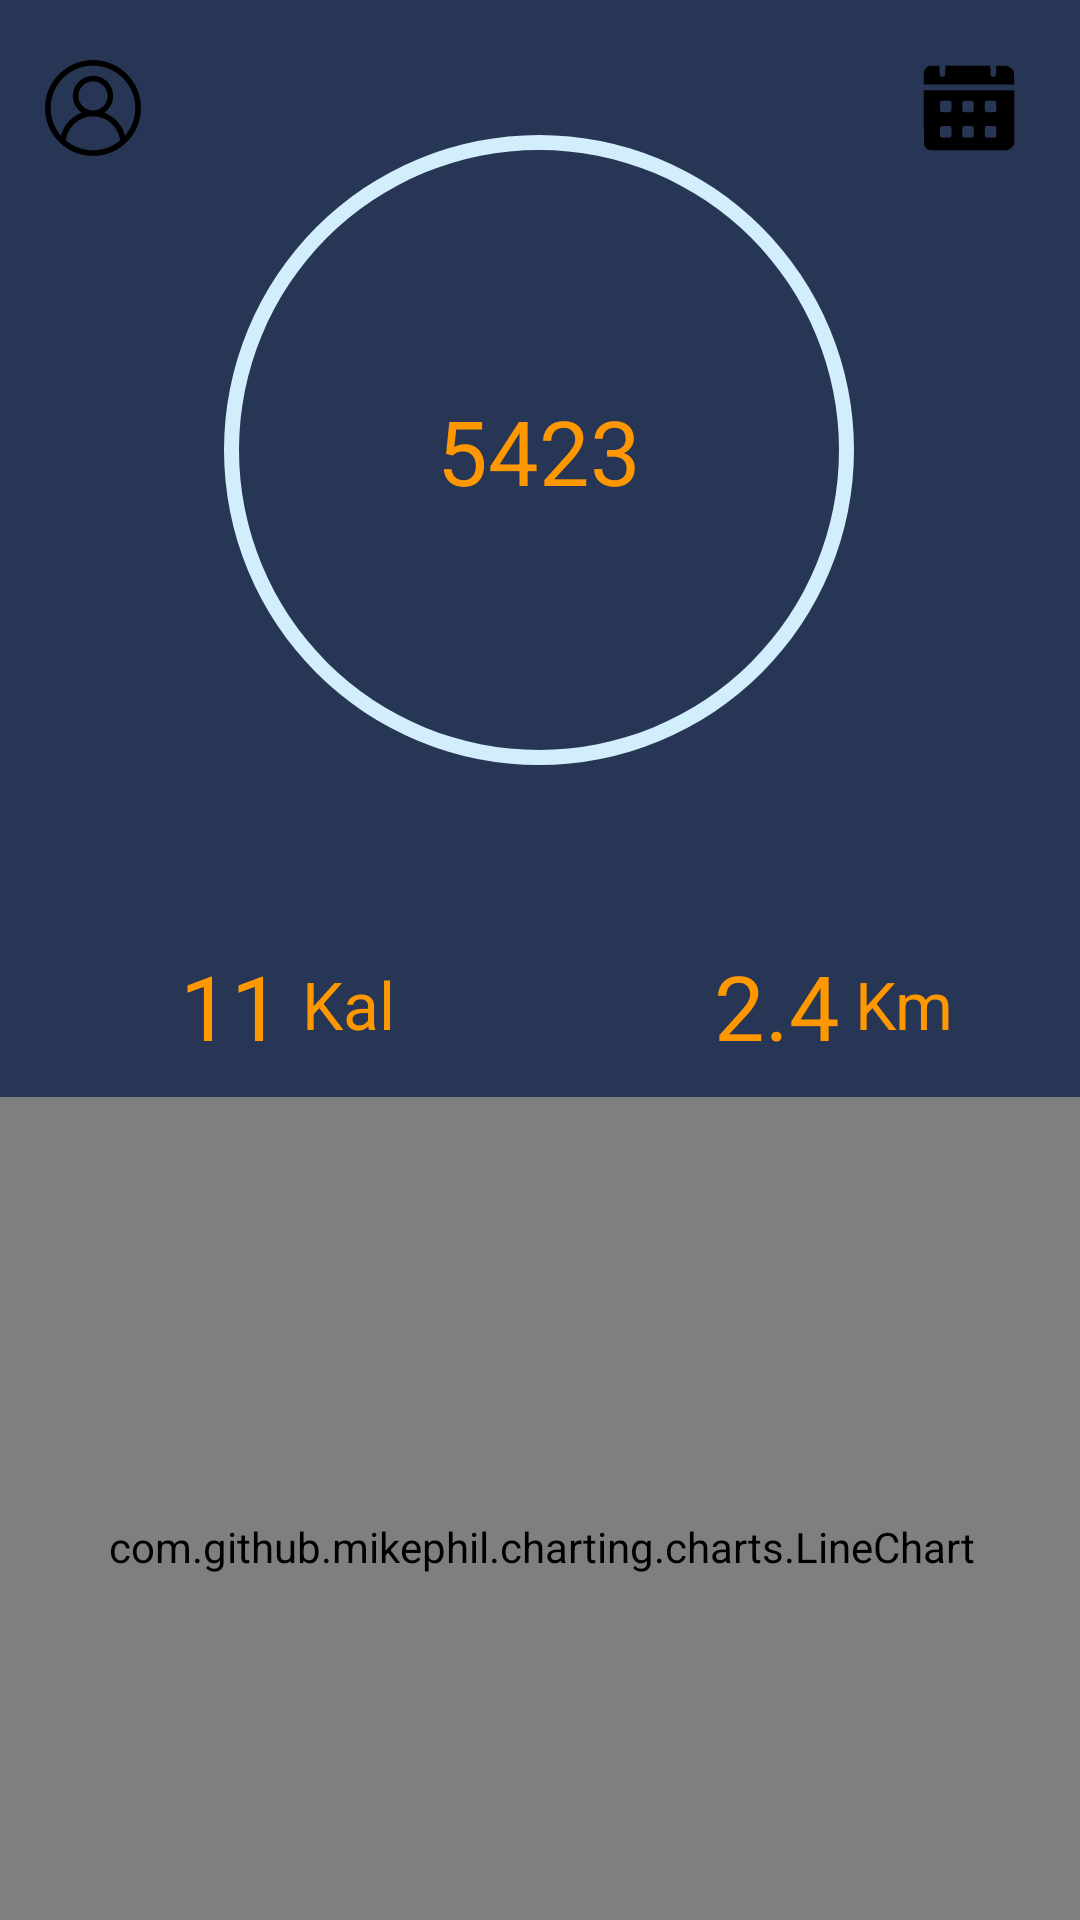

Where to tap for icons on this 1080px x 1920px app screen, as (x,y):
calendar: (969,108)
user: (93,108)
